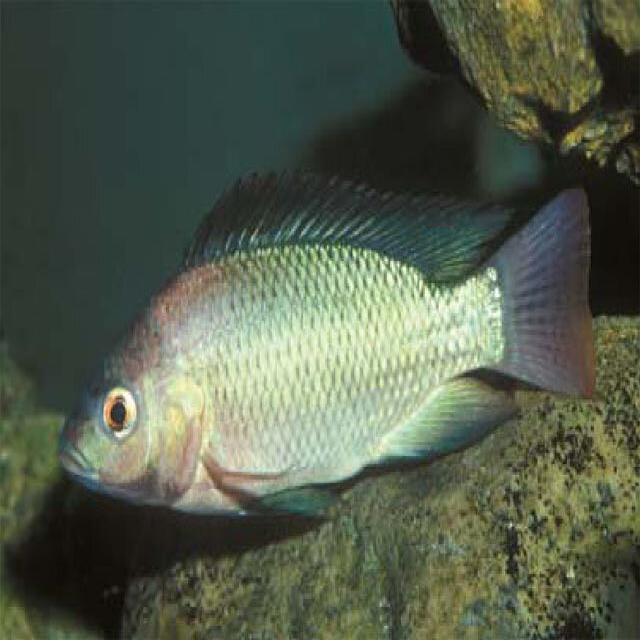ikan: (56, 163, 596, 518)
